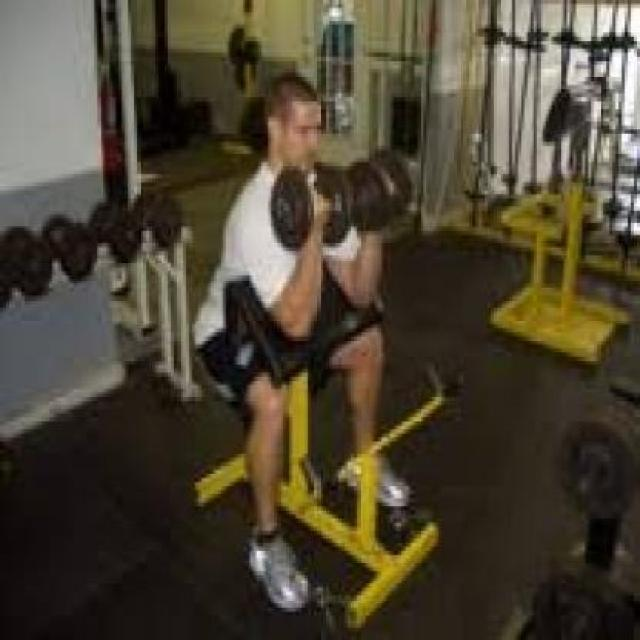arm curl machine: (193, 255, 462, 634)
